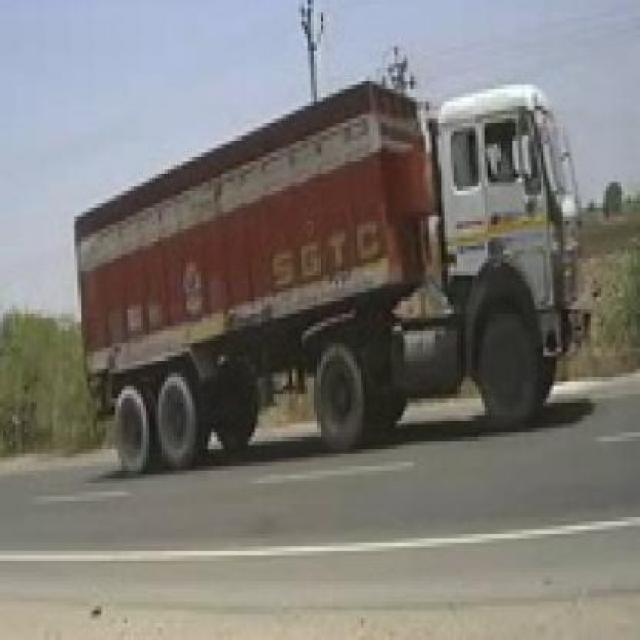vehicle: (69, 68, 593, 470)
